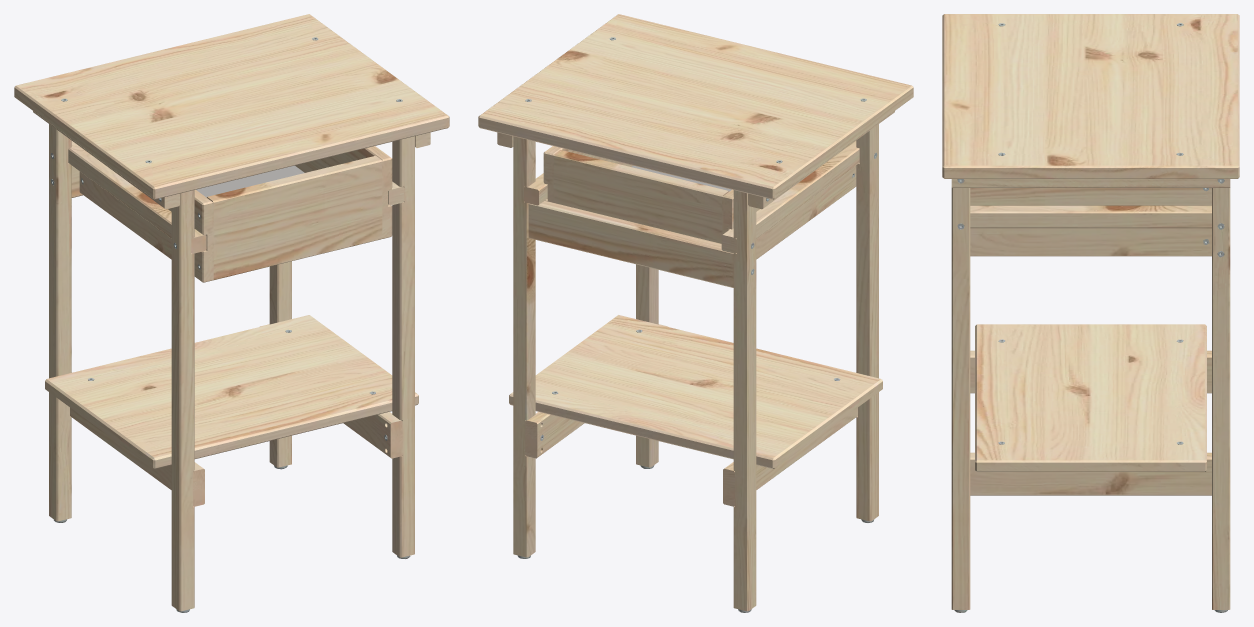
File: 00610807-mini.glb
3 renders of one model, left to right at view 1: azimuth 30°, elevation 25°; view 2: azimuth 150°, elevation 25°; view 3: azimuth 270°, elevation 25°, orthographic. The views are drawn at different scales.
Visible parts, largest first — view 1: ASY_ART_00610807_S01_NV01; view 2: ASY_ART_00610807_S01_NV01; view 3: ASY_ART_00610807_S01_NV01.
Boxes of the visible parts, x1,y1,x2,y2 form: ASY_ART_00610807_S01_NV01: [14, 14, 449, 612]; ASY_ART_00610807_S01_NV01: [478, 14, 913, 612]; ASY_ART_00610807_S01_NV01: [942, 14, 1239, 612].
Size of the model in its own units: 0.3901 by 0.5515 by 0.3201.
Materials: 1 (1 with a texture image).
